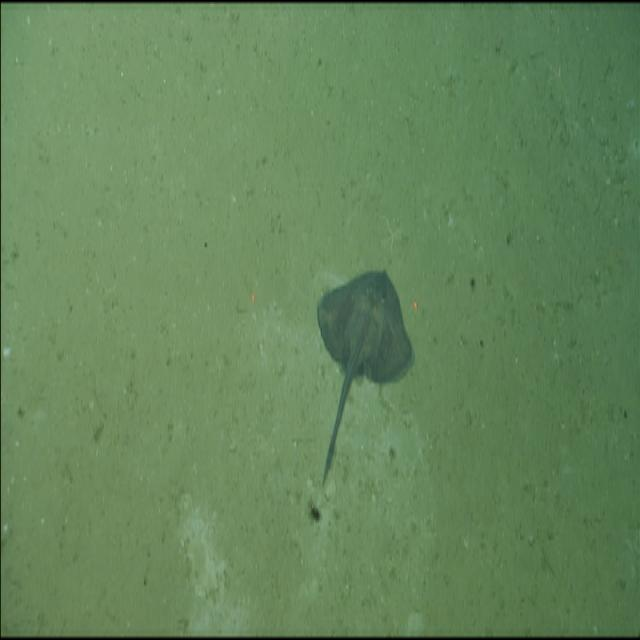Brittle Star: (378, 207, 410, 257)
